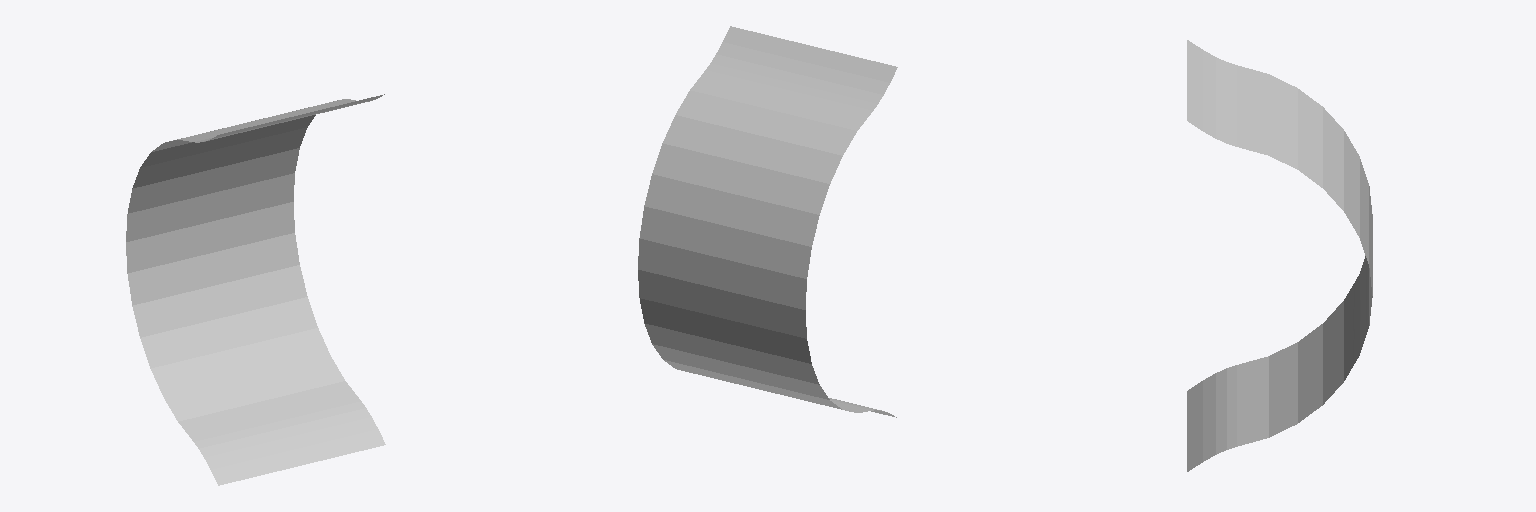
File: halfpipe.obj
3 renders of one model, left to right at view 1: azimuth 30°, elevation 25°; view 2: azimuth 150°, elevation 25°; view 3: azimuth 270°, elevation 25°, orthographic.
Visible parts, largest first — view 1: Circle; view 2: Circle; view 3: Circle.
Part boxes in pixels (x1,y1,x2,y2): Circle: (126, 94, 385, 485); Circle: (638, 26, 897, 417); Circle: (1187, 40, 1372, 471).
Size of the model in its own units: 1 by 2 by 0.9565.